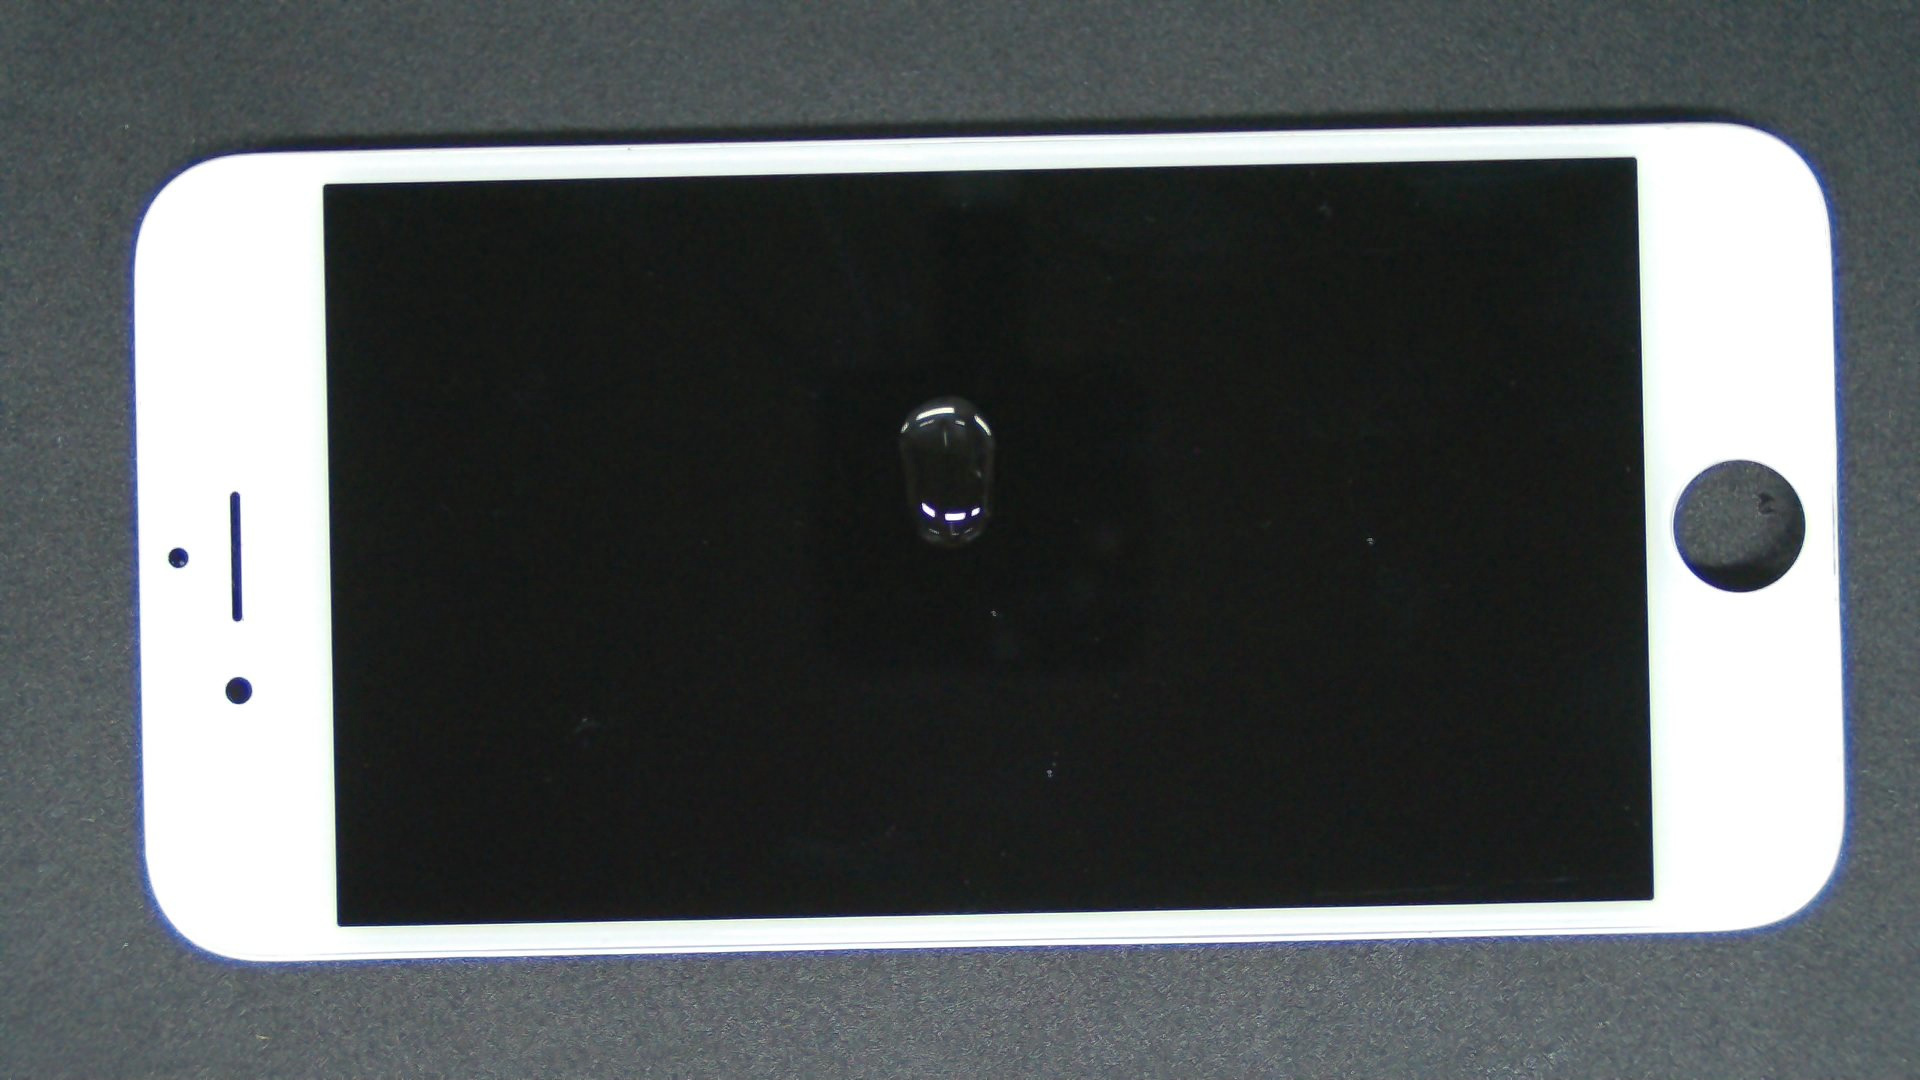oil: (473, 198, 1418, 595)
